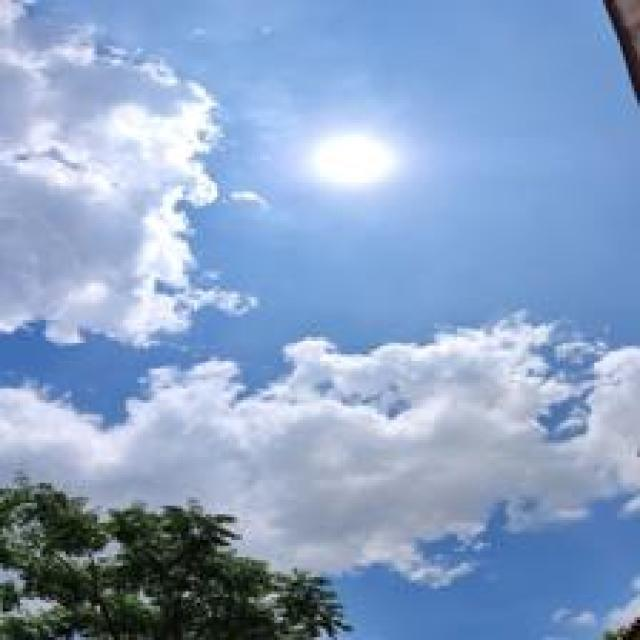sun: (311, 134, 398, 187)
